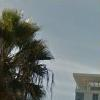Palm tree: (1, 6, 52, 100)
